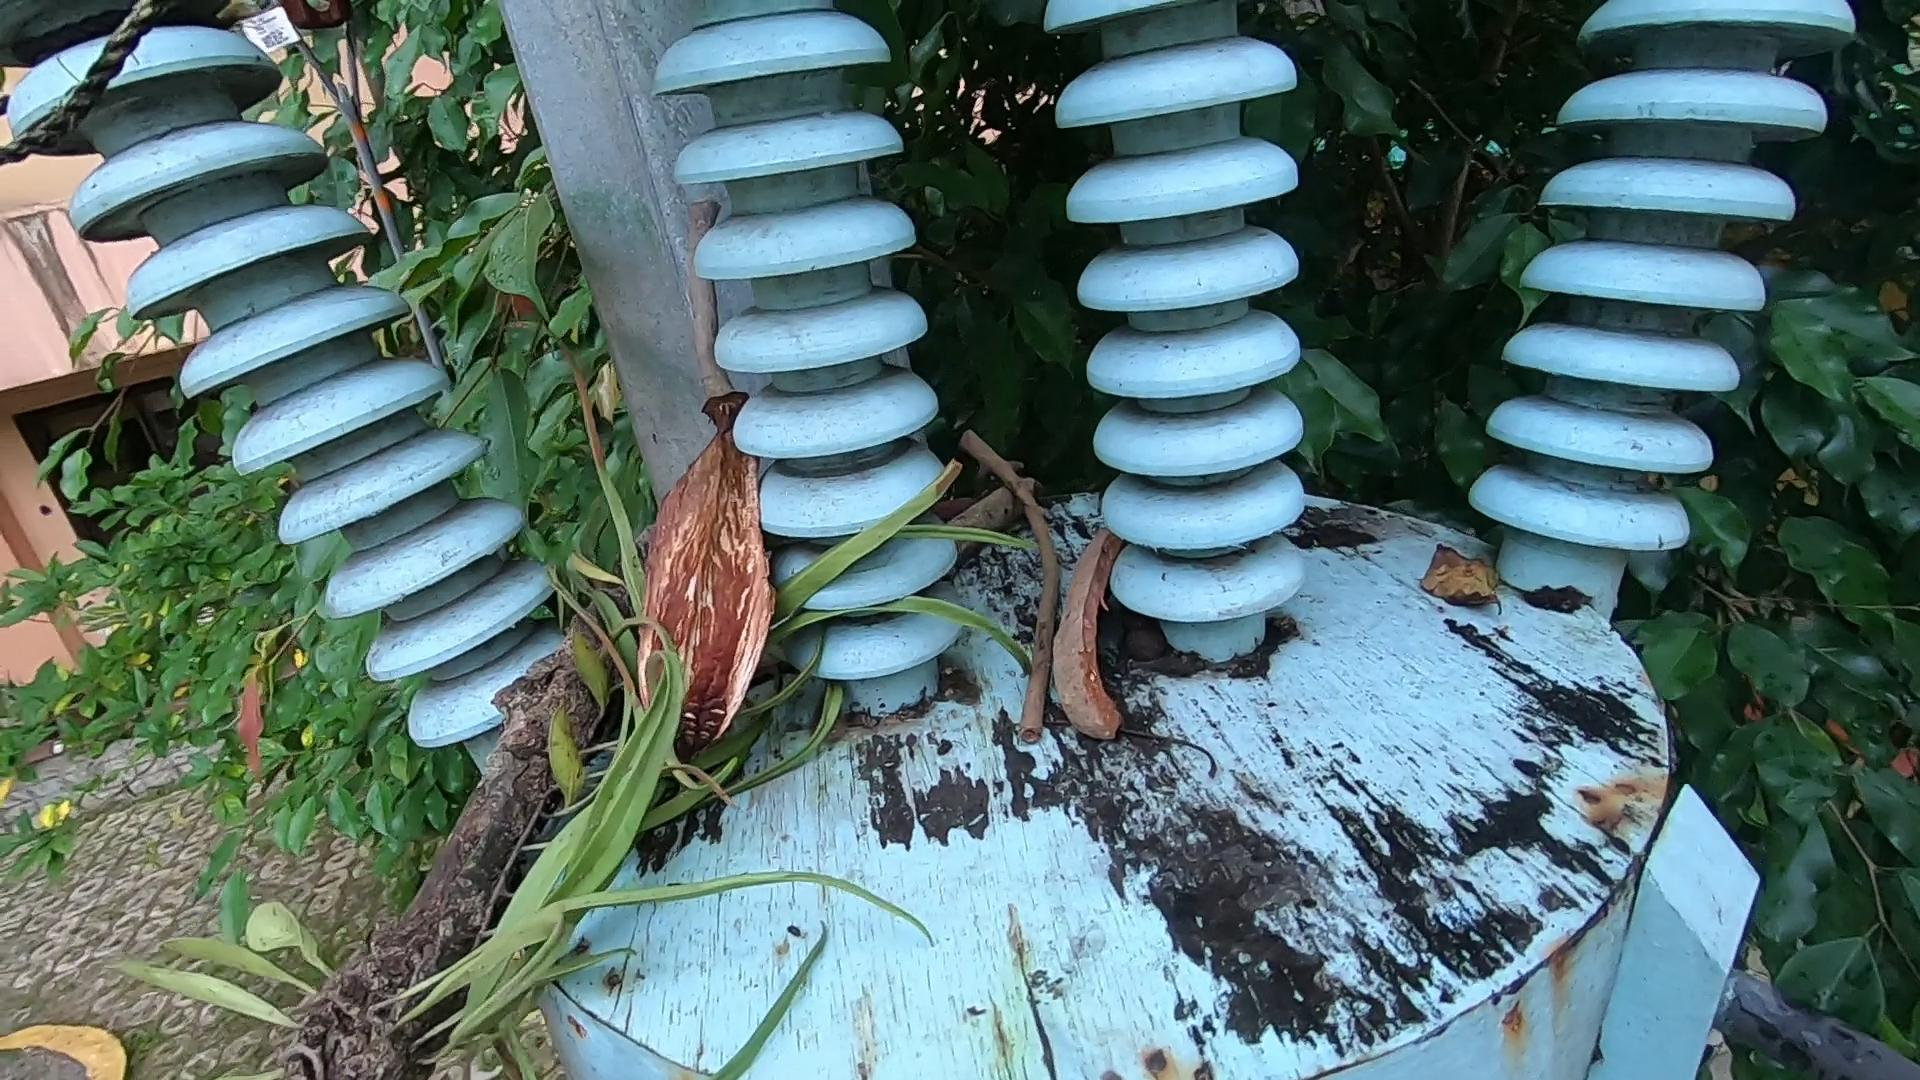branch with leaves: (124, 462, 1021, 1065)
leaf: (1381, 502, 1564, 723)
mahogany fruit: (587, 380, 804, 703), (1054, 496, 1127, 861)
tree branch: (938, 398, 1060, 769), (669, 178, 738, 415)
